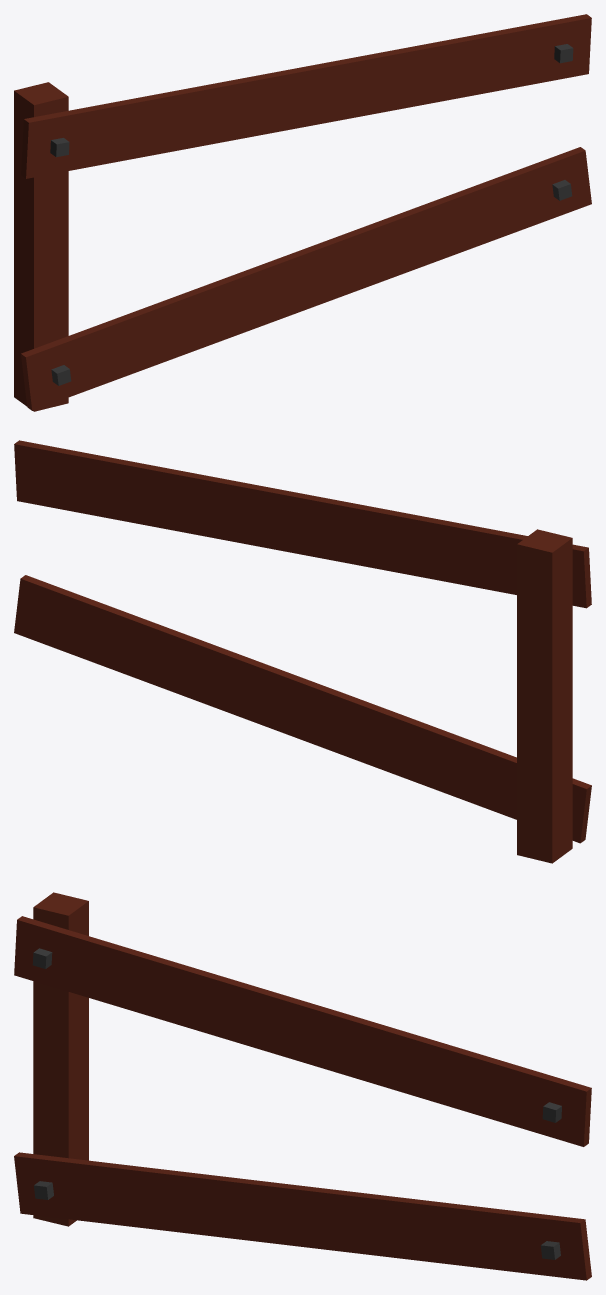
Rendered from Fence_Brown_Small.fbx.
3 renders of one model, top to bottom at view 1: azimuth 30°, elevation 25°; view 2: azimuth 150°, elevation 25°; view 3: azimuth 330°, elevation 25°, orthographic.
Visible parts, largest first — view 1: vallasC1; view 2: vallasC1; view 3: vallasC1.
Boxes of the visible parts, x1,y1,x2,y2 form: vallasC1: (14, 14, 591, 411); vallasC1: (14, 440, 591, 863); vallasC1: (14, 892, 591, 1280).
Size of the model in its own units: 233 by 121 by 22.8.
